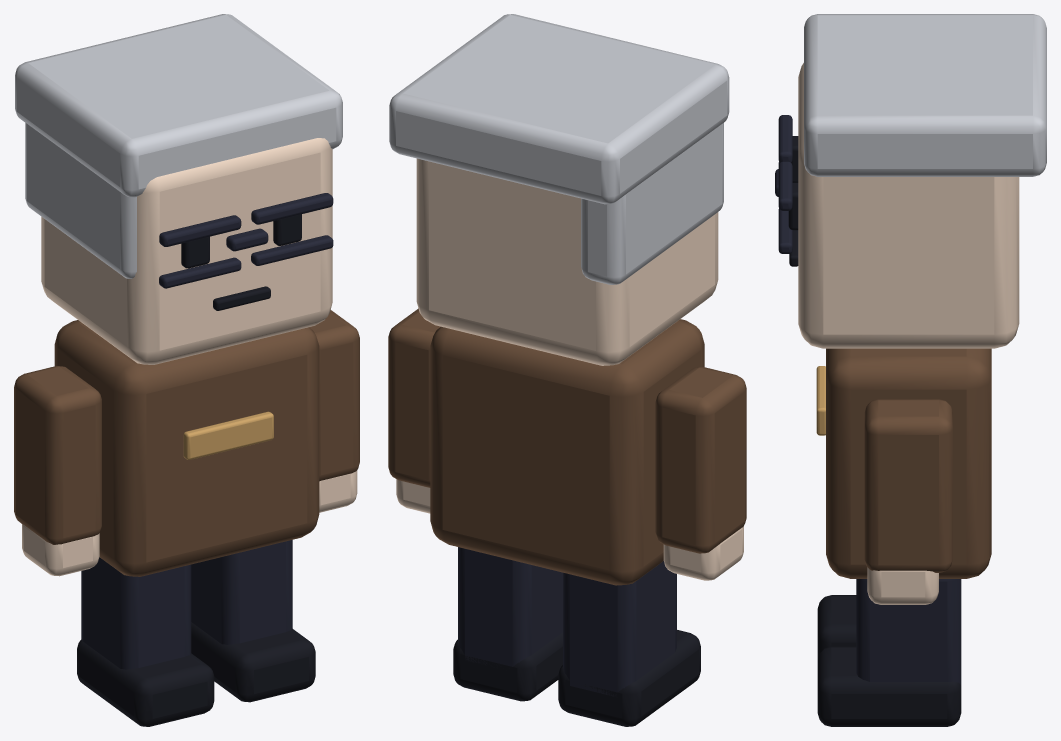
The model's file is librarian.glb.
The picture shows the model from 3 angles, left to right: view 1: azimuth 30°, elevation 25°; view 2: azimuth 150°, elevation 25°; view 3: azimuth 270°, elevation 25°; orthographic projection. The views are drawn at different scales.
Visible parts, largest first — view 1: Jacket, Hair, Face, Arm_L_sleeve, Leg_L_trouser, HairSide, Leg_R_trouser, Leg_L_shoe, Arm_R_sleeve, Leg_R_shoe, ChestBadge, Arm_L_hand (+9 smaller); view 2: Jacket, Hair, Face, Arm_L_sleeve, HairSide, Leg_L_trouser, Leg_R_trouser, Arm_R_sleeve, Leg_L_shoe, Leg_R_shoe, Arm_L_hand, Arm_R_hand; view 3: Hair, Face, Jacket, Arm_R_sleeve, Leg_R_trouser, Leg_R_shoe, Arm_R_hand, Leg_L_shoe, GlassesTop.001, GlassesTop, ChestBadge, GlassesBottom.001.
Boxes of the visible parts, x1,y1,x2,y2 form: Jacket: (54,320,319,576); Hair: (15,14,342,197); Face: (41,138,332,364); Arm_L_sleeve: (14,366,101,544); Leg_L_trouser: (81,557,191,669); HairSide: (25,123,136,278); Leg_R_trouser: (191,540,292,644); Leg_L_shoe: (77,639,214,726); Arm_R_sleeve: (309,310,359,481); Leg_R_shoe: (191,622,315,702); ChestBadge: (183,411,273,459); Arm_L_hand: (22,524,99,576); Jacket: (430,319,704,585); Hair: (389,14,729,204); Face: (416,158,718,365); Arm_L_sleeve: (655,367,746,553); HairSide: (581,123,723,284); Leg_L_trouser: (563,561,676,696); Leg_R_trouser: (458,547,562,667); Arm_R_sleeve: (388,308,440,487); Leg_L_shoe: (558,630,700,726); Leg_R_shoe: (453,632,562,701); Arm_L_hand: (663,526,743,580); Arm_R_hand: (396,479,430,513); Hair: (804,14,1046,176); Face: (798,63,1019,348); Jacket: (826,348,991,578); Arm_R_sleeve: (864,399,952,572); Leg_R_trouser: (856,579,961,685); Leg_R_shoe: (817,646,961,726); Arm_R_hand: (867,567,938,604); Leg_L_shoe: (817,595,856,659); GlassesTop.001: (778,161,792,210); GlassesTop: (778,115,792,162); ChestBadge: (816,366,825,435); GlassesBottom.001: (778,208,792,253).
Bounding box in the file's own units: 0.68 × 1.24 × 0.492.
